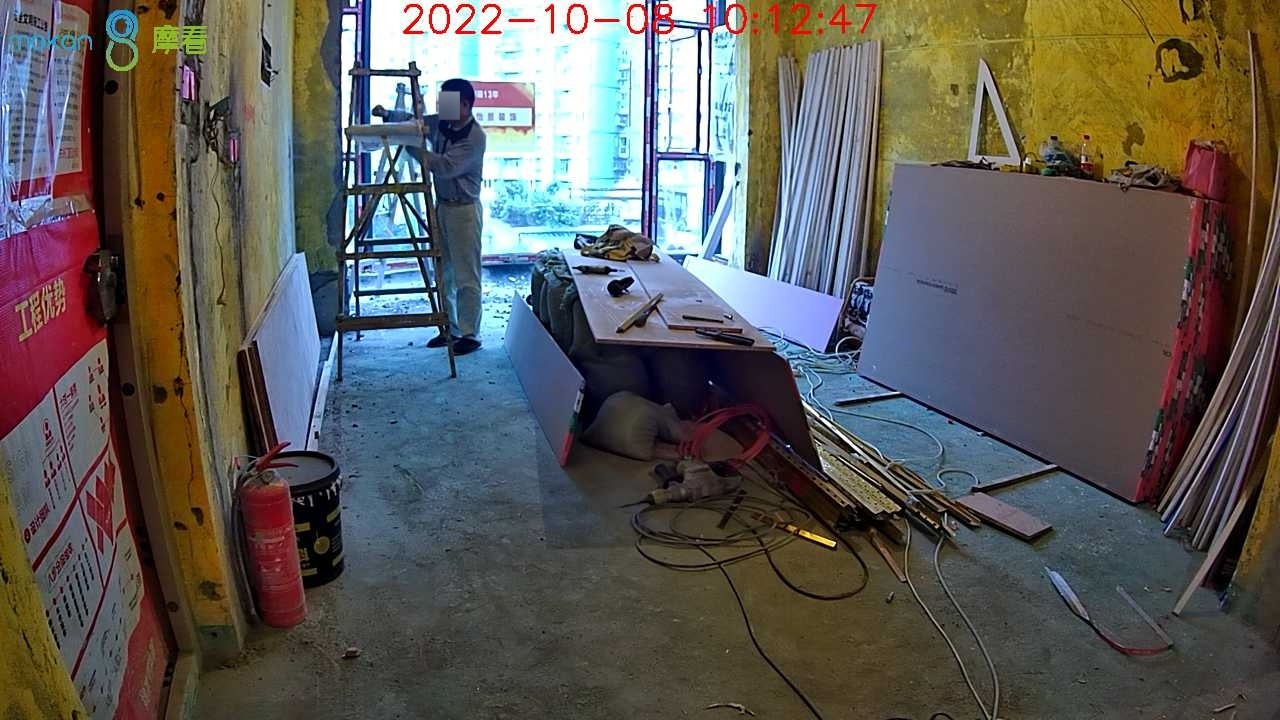people: (377, 83, 485, 356)
window: (331, 1, 720, 259)
